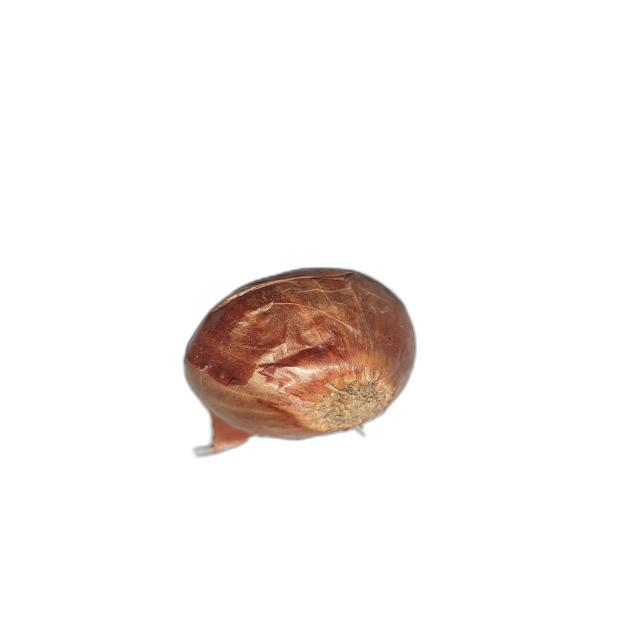onion: (184, 266, 418, 456)
